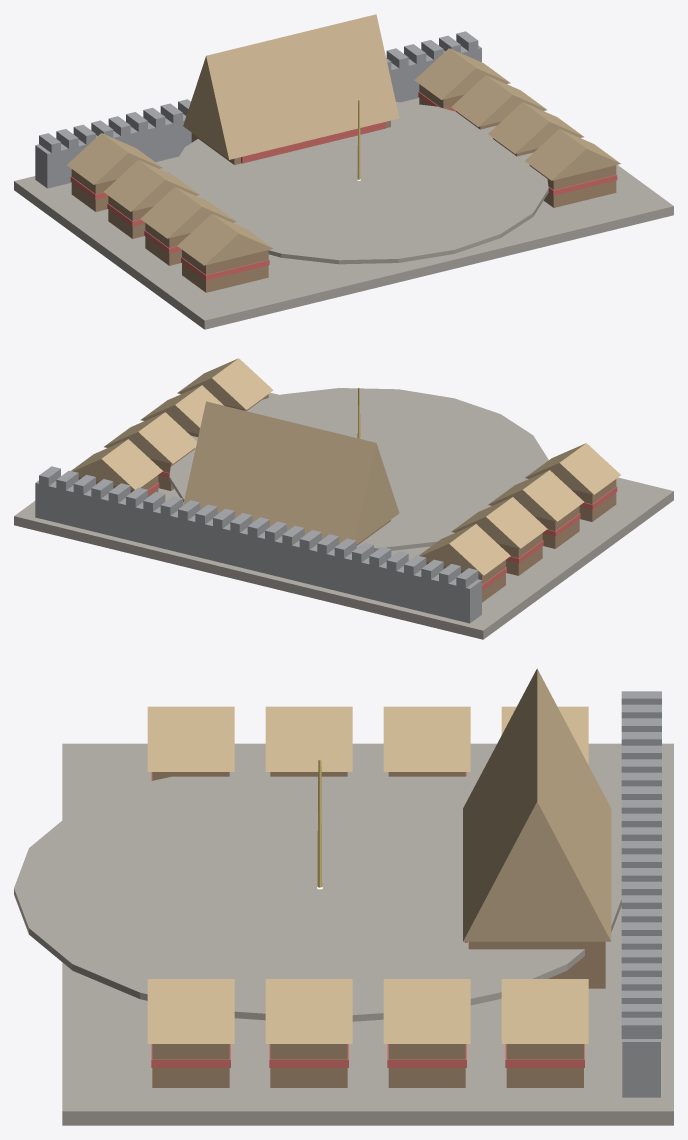
File: lm_58_doi_mong_mo_central_highlands_gong_stage_and_brocade_village.glb
The picture shows the model from 3 angles, top to bottom: view 1: azimuth 30°, elevation 25°; view 2: azimuth 150°, elevation 25°; view 3: azimuth 270°, elevation 25°; orthographic projection. The views are drawn at different scales.
Visible parts, largest first — view 1: lm_58_doi_mong_mo_central_highlands_gong_stage_and_brocade_v; view 2: lm_58_doi_mong_mo_central_highlands_gong_stage_and_brocade_v; view 3: lm_58_doi_mong_mo_central_highlands_gong_stage_and_brocade_v.
Boxes of the visible parts, box(x1,y1,x2,y2) form: lm_58_doi_mong_mo_central_highlands_gong_stage_and_brocade_v: box(14, 14, 673, 329); lm_58_doi_mong_mo_central_highlands_gong_stage_and_brocade_v: box(14, 358, 673, 639); lm_58_doi_mong_mo_central_highlands_gong_stage_and_brocade_v: box(14, 668, 673, 1125).
Bounding box in the file's own units: 54 × 14.2 × 41.
